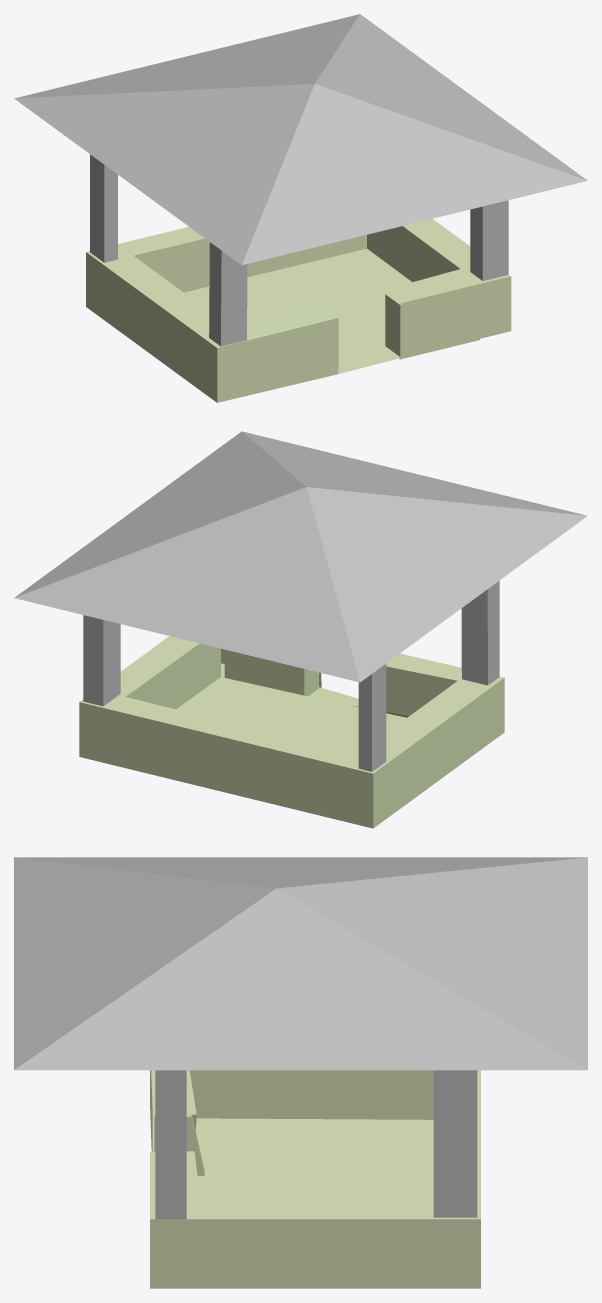
Rendered from Shed_Gabaldon_FIN.glb.
3 renders of one model, top to bottom at view 1: azimuth 30°, elevation 25°; view 2: azimuth 150°, elevation 25°; view 3: azimuth 270°, elevation 25°, orthographic. The views are drawn at different scales.
Visible parts, largest first — view 1: Cube.005, Cube; view 2: Cube.005, Cube; view 3: Cube.005, Cube.
Part boxes in pixels (x1=…): Cube.005: x1=14, y1=14, x2=587, y2=346; Cube: x1=86, y1=219, x2=511, y2=402; Cube.005: x1=14, y1=431, x2=587, y2=771; Cube: x1=79, y1=636, x2=504, y2=828; Cube.005: x1=14, y1=857, x2=587, y2=1219; Cube: x1=150, y1=1070, x2=480, y2=1288.
Bounding box in the file's own units: 9.56 × 6.56 × 10.9.
